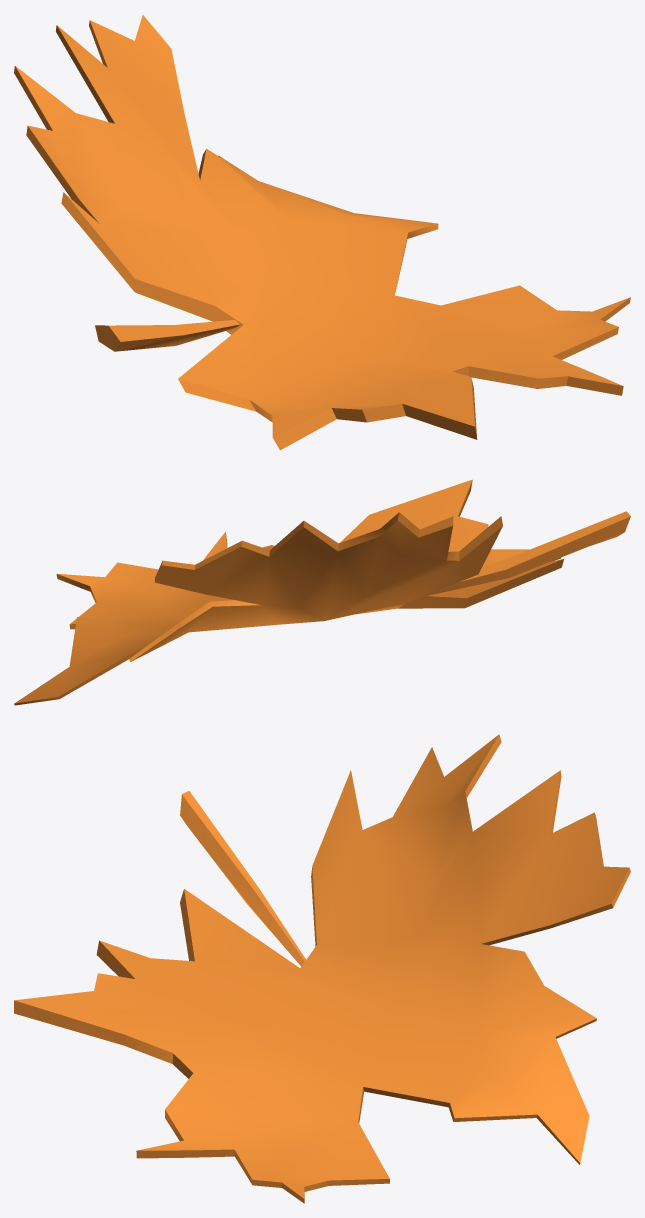
The picture shows the model from 3 angles, top to bottom: view 1: azimuth 30°, elevation 25°; view 2: azimuth 150°, elevation 25°; view 3: azimuth 270°, elevation 25°; orthographic projection. The views are drawn at different scales.
Parts seen in each view (by area): view 1: yellow; view 2: yellow; view 3: yellow.
Part boxes in pixels (left/top/right/bottom): yellow: left=14, top=14, right=630, bottom=450; yellow: left=14, top=479, right=630, bottom=705; yellow: left=14, top=734, right=630, bottom=1203.
Bounding box in the file's own units: 8.36 × 3.86 × 8.35.
